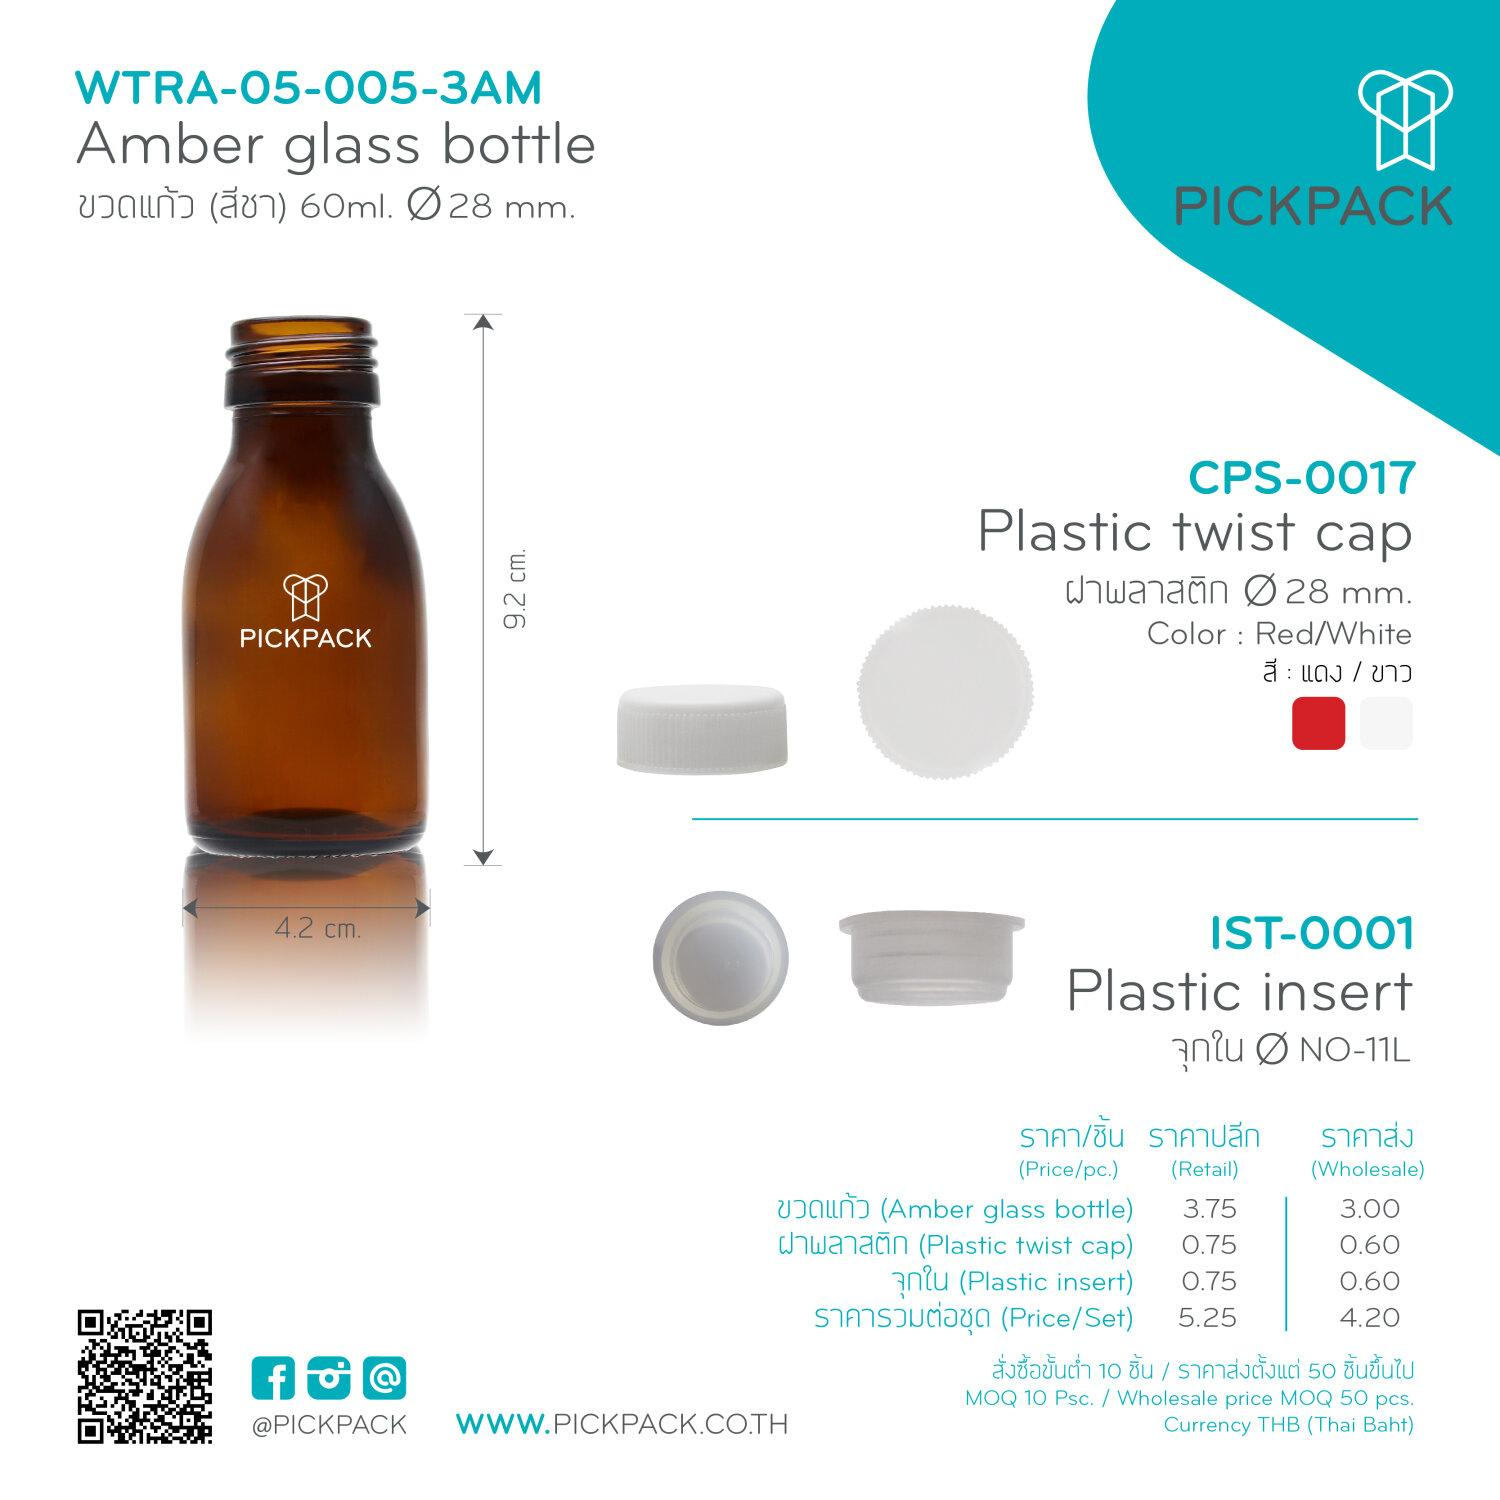glass_bottle: (174, 298, 441, 879)
